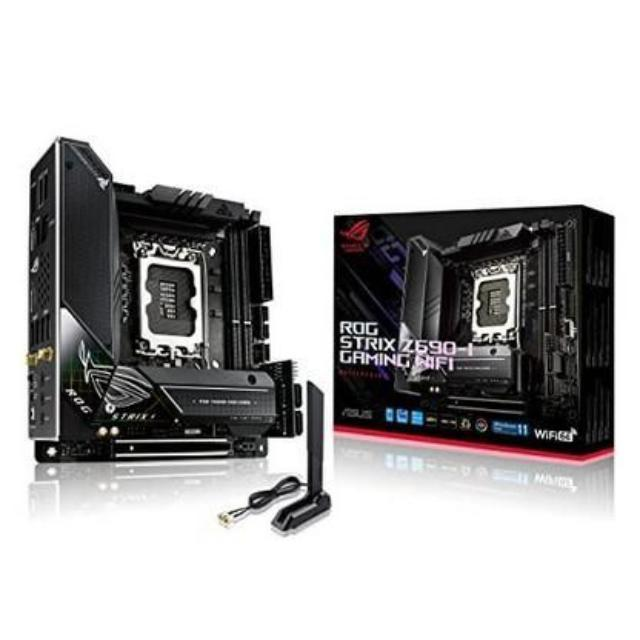Mainboard: (18, 124, 296, 473)
